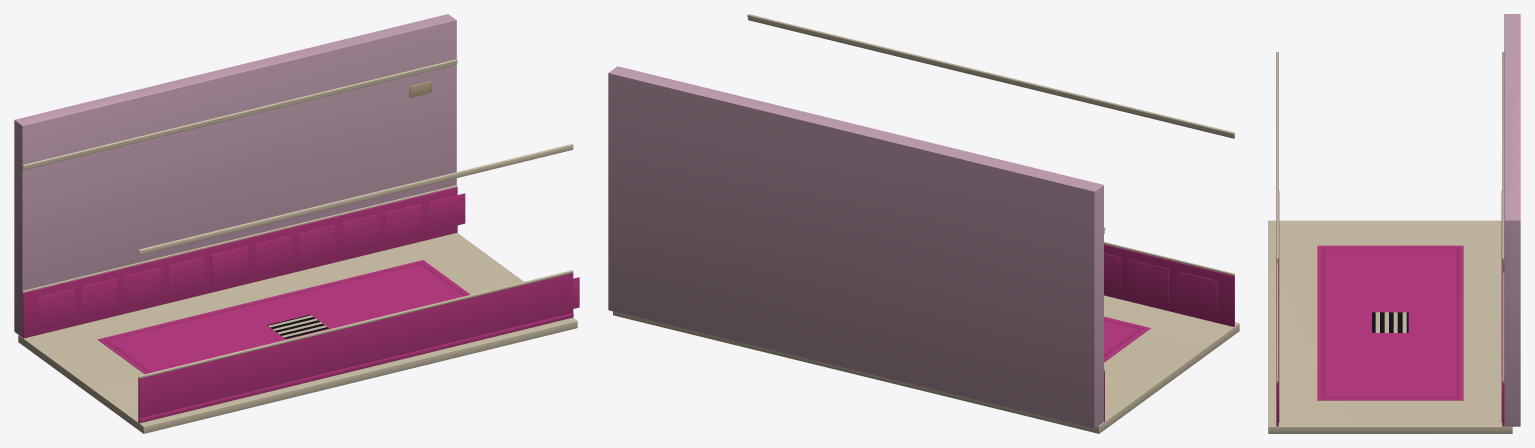
The model's file is SM_Wardrobe_Shell.fbx.
3 renders of one model, left to right at view 1: azimuth 30°, elevation 25°; view 2: azimuth 150°, elevation 25°; view 3: azimuth 270°, elevation 25°, orthographic. The views are drawn at different scales.
Parts seen in each view (by area): view 1: SM_Wardrobe_Shell; view 2: SM_Wardrobe_Shell; view 3: SM_Wardrobe_Shell.
Part boxes in pixels (x1,y1,x2,y2): SM_Wardrobe_Shell: (14,14,579,433); SM_Wardrobe_Shell: (608,14,1239,433); SM_Wardrobe_Shell: (1268,14,1520,433).
Bounding box in the file's own units: 1220 × 580 × 620.
